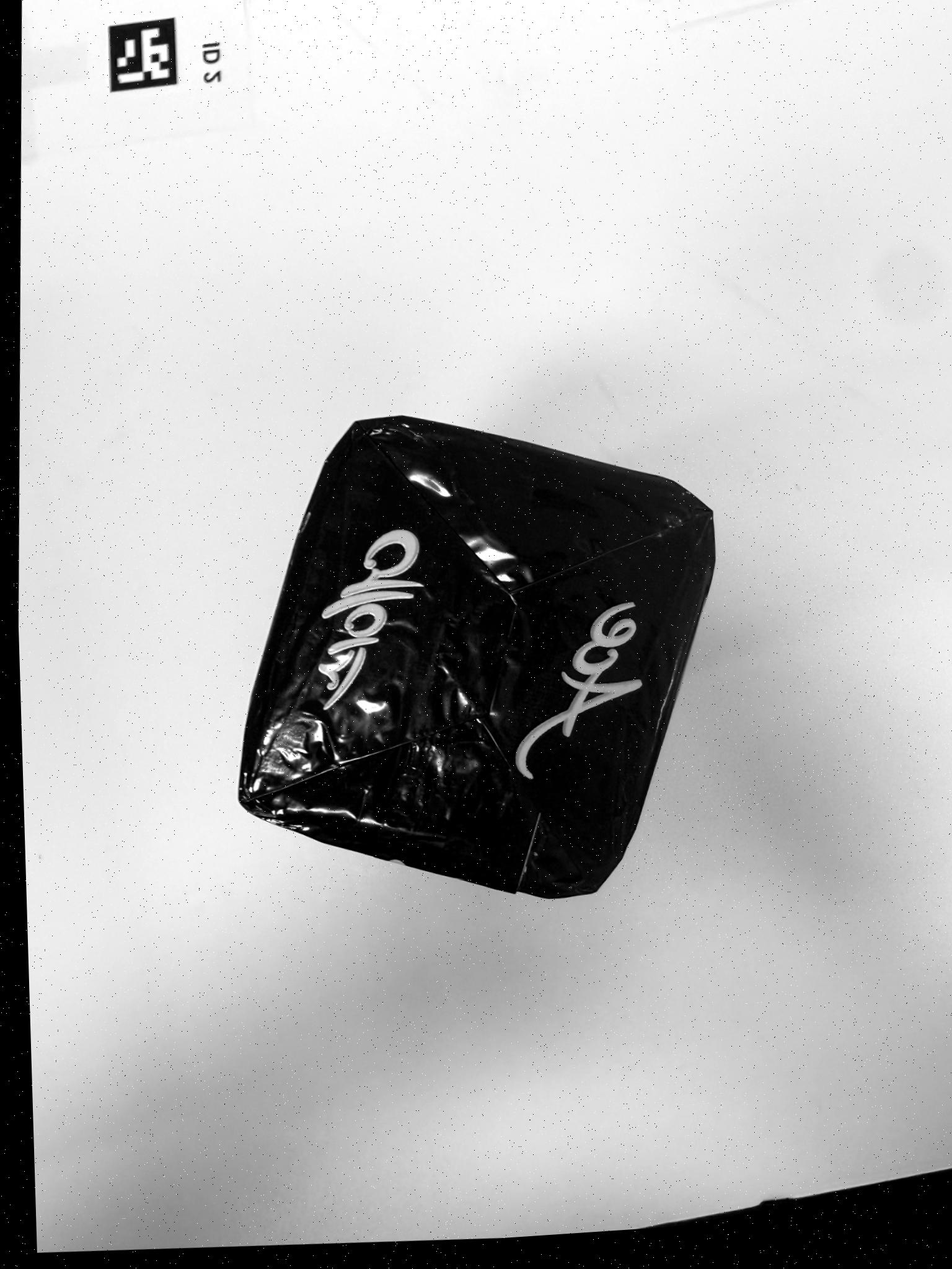cracker_ace: (239, 417, 715, 898)
